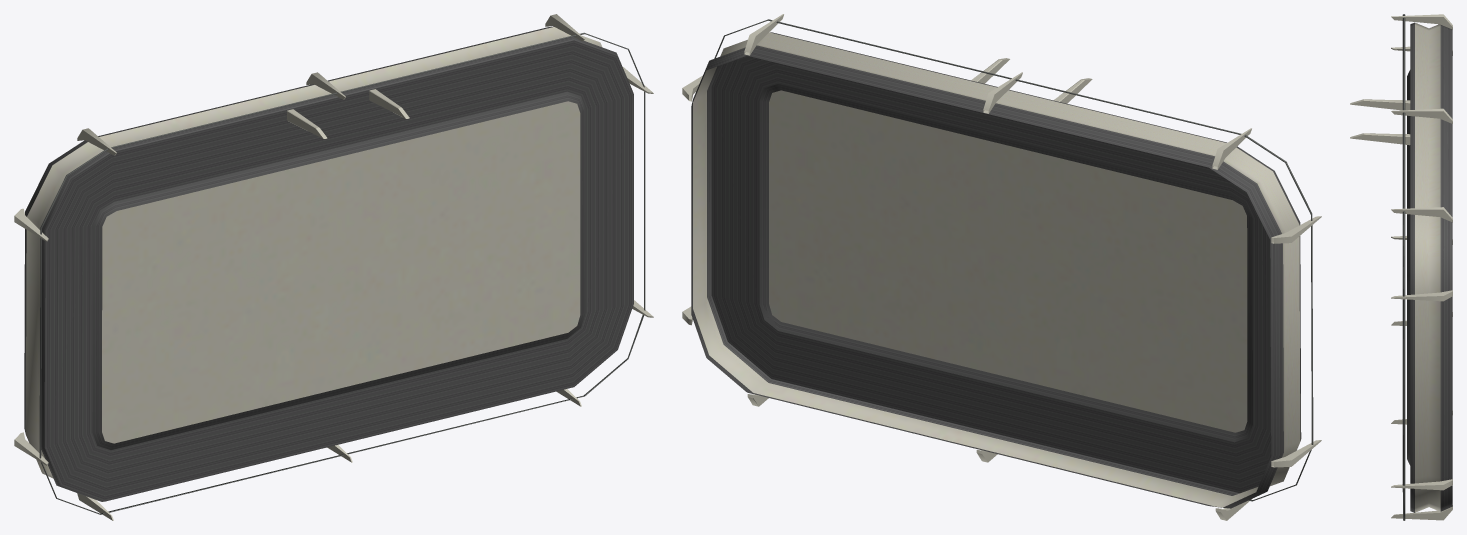
Rendered from nt_2020_car_base_LOD2.obj.
The picture shows the model from 3 angles, left to right: view 1: azimuth 30°, elevation 25°; view 2: azimuth 150°, elevation 25°; view 3: azimuth 270°, elevation 25°; orthographic projection. The views are drawn at different scales.
Parts seen in each view (by area): view 1: nt_2020_plastic_cream, nt_2020_metal_brushed_trim; view 2: nt_2020_plastic_cream, nt_2020_metal_brushed_trim; view 3: nt_2020_plastic_cream, nt_2020_metal_brushed_trim.
Boxes of the visible parts, x1,y1,x2,y2 form: nt_2020_plastic_cream: [14, 14, 653, 520]; nt_2020_metal_brushed_trim: [24, 26, 645, 514]; nt_2020_plastic_cream: [682, 14, 1321, 520]; nt_2020_metal_brushed_trim: [691, 19, 1313, 508]; nt_2020_plastic_cream: [1350, 14, 1452, 520]; nt_2020_metal_brushed_trim: [1402, 14, 1452, 520].
Bounding box in the file's own units: 458 × 266 × 79.39.
